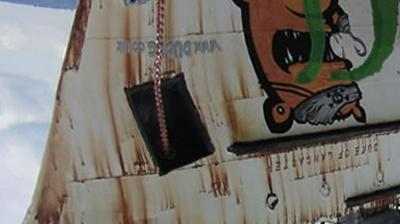rust: (215, 65, 267, 148), (125, 4, 179, 83), (33, 128, 77, 224), (277, 144, 390, 179), (114, 131, 156, 224), (66, 1, 101, 78), (208, 155, 240, 201), (284, 202, 356, 220), (364, 193, 400, 209)
